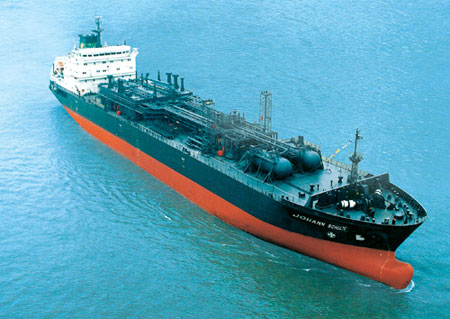Cargoship: (44, 12, 423, 286)
